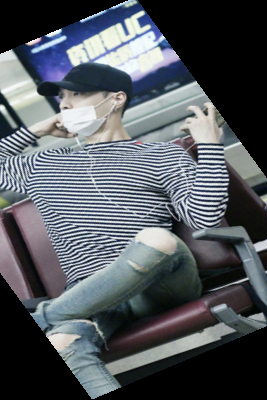mask_weared_incorrect: (33, 56, 160, 143)
